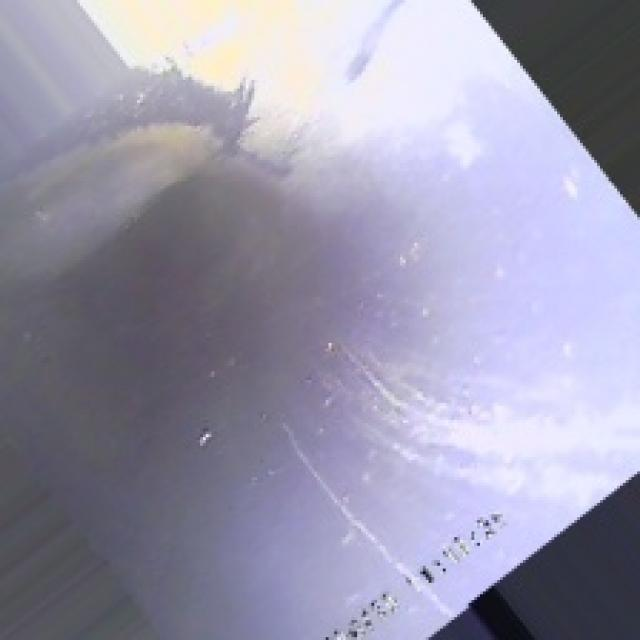shape_deformation: (43, 74, 434, 434)
